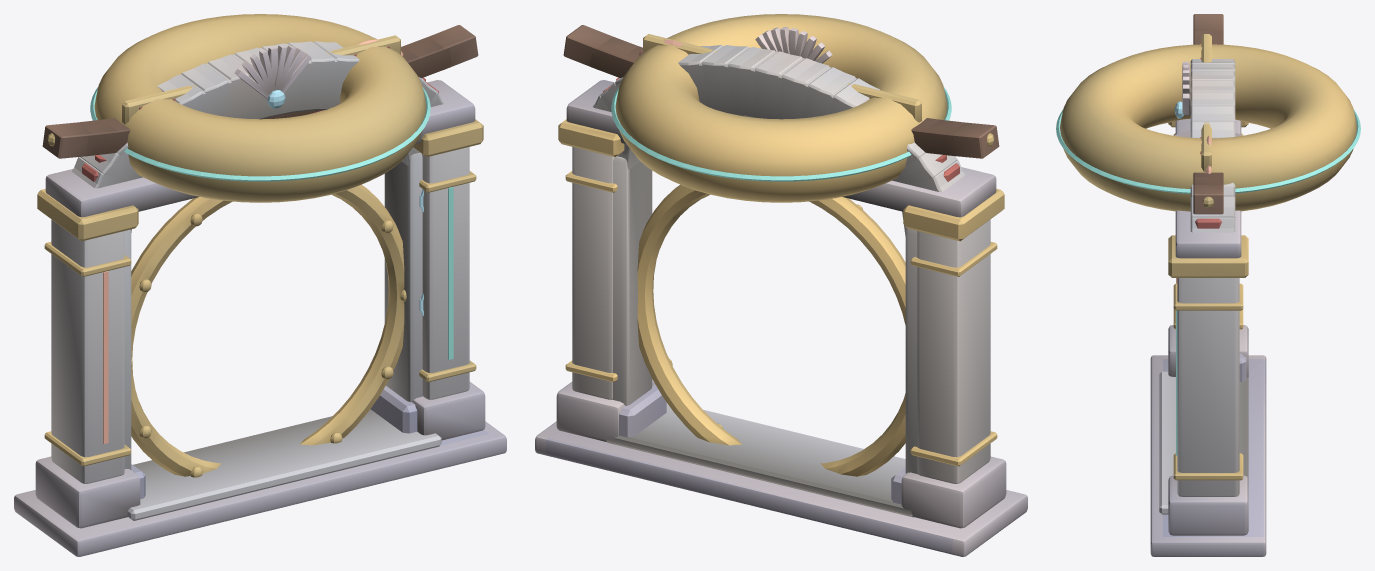
File: hub_gates.glb
3 renders of one model, left to right at view 1: azimuth 30°, elevation 25°; view 2: azimuth 150°, elevation 25°; view 3: azimuth 270°, elevation 25°, orthographic. The views are drawn at different scales.
Visible parts, largest first — view 1: torus_gate, coast_gate, bazaar_gate; view 2: torus_gate, coast_gate, bazaar_gate; view 3: torus_gate, coast_gate, bazaar_gate.
Part boxes in pixels (<box>): torus_gate: <box>14,14,506,556</box>; coast_gate: <box>26,41,488,531</box>; bazaar_gate: <box>42,25,478,181</box>; torus_gate: <box>535,14,1027,556</box>; coast_gate: <box>545,27,964,554</box>; bazaar_gate: <box>563,25,999,181</box>; torus_gate: <box>1056,44,1360,556</box>; coast_gate: <box>1163,59,1266,539</box>; bazaar_gate: <box>1193,14,1223,228</box>.
Size of the model in its own units: 5 by 4.92 by 3.42.
